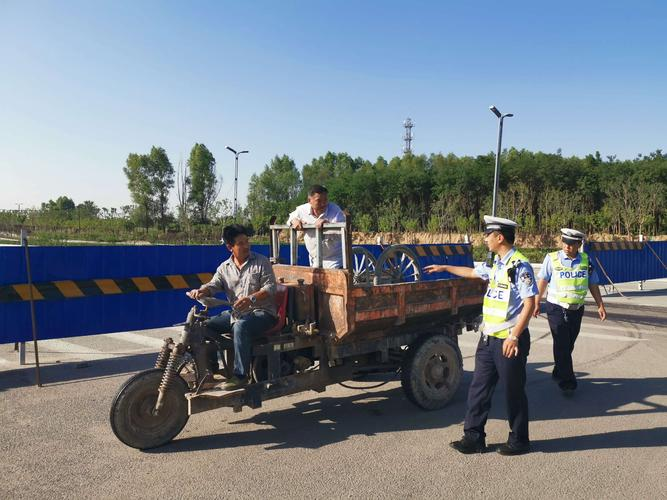driver: (201, 226, 273, 379)
overloading: (112, 205, 473, 449)
passenger: (277, 187, 369, 270)
